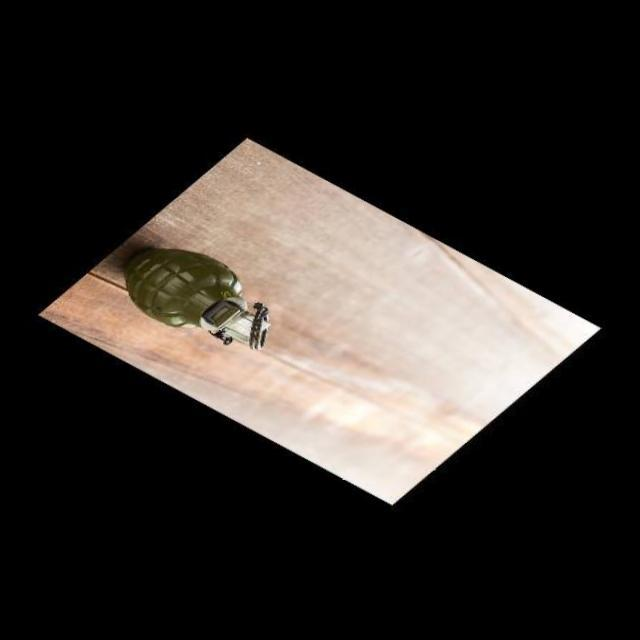grenade: (118, 232, 284, 359)
